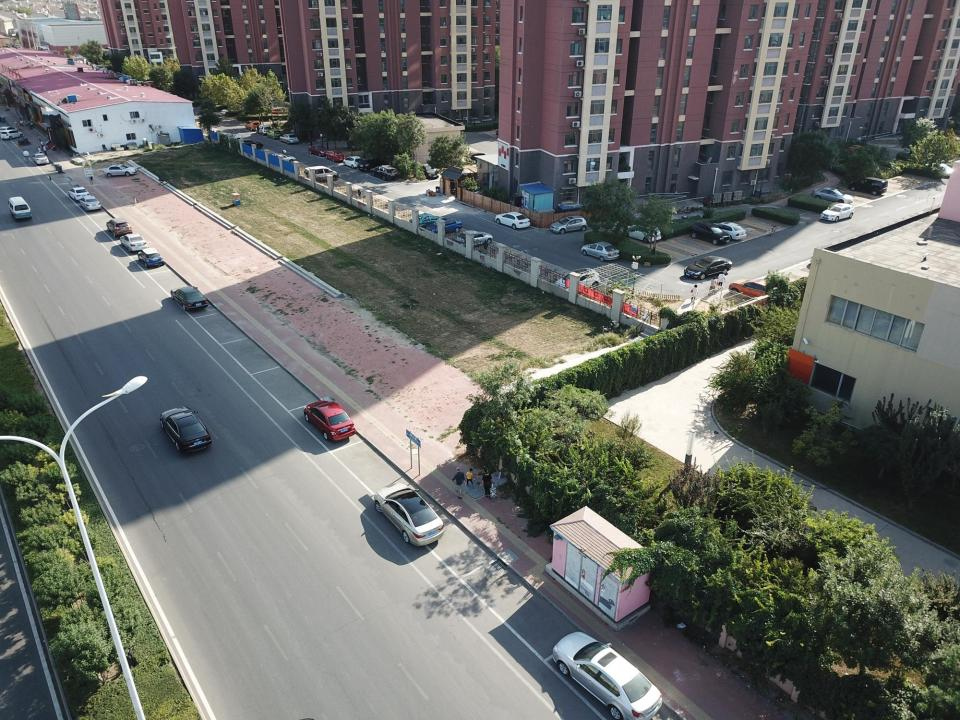car: (551, 630, 663, 720), (374, 482, 445, 545), (160, 406, 211, 452), (304, 400, 356, 441), (554, 267, 599, 295), (170, 285, 208, 313), (684, 256, 732, 278), (690, 221, 732, 246), (729, 278, 773, 301), (580, 241, 620, 261), (811, 187, 853, 206), (622, 224, 662, 243), (550, 214, 585, 235), (712, 220, 747, 240), (426, 217, 464, 235), (494, 211, 530, 229), (456, 231, 492, 248), (137, 247, 164, 269), (820, 204, 853, 222), (920, 162, 954, 178), (106, 218, 133, 237), (412, 212, 443, 228), (120, 234, 147, 252), (103, 164, 137, 178), (370, 164, 397, 180), (79, 196, 101, 212), (68, 186, 90, 201), (219, 103, 246, 115), (308, 144, 330, 158), (420, 162, 439, 177), (238, 138, 262, 149), (358, 158, 380, 170), (326, 150, 345, 163), (344, 155, 362, 168), (2, 129, 23, 140), (219, 132, 241, 142), (280, 132, 297, 144), (33, 153, 49, 164), (1, 125, 17, 136), (245, 120, 258, 130), (257, 125, 271, 134), (271, 108, 290, 114), (268, 129, 280, 138)
van: (849, 177, 887, 195), (7, 197, 33, 222)
